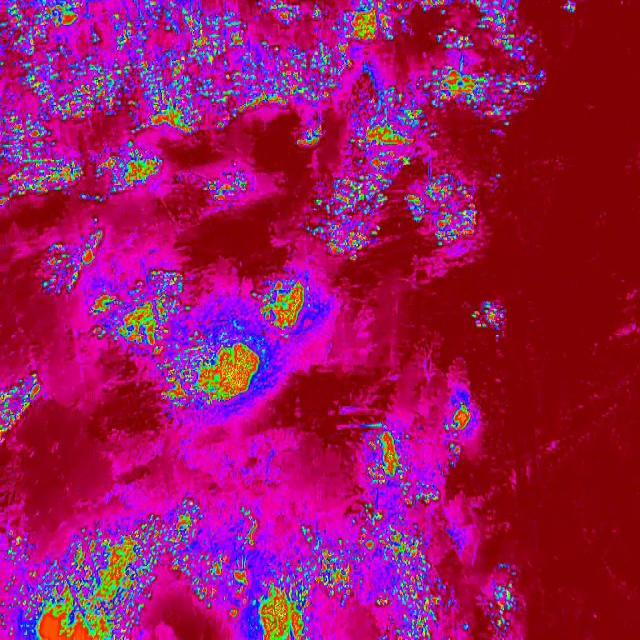fire: (0, 506, 449, 640), (94, 258, 336, 409), (0, 0, 166, 202), (326, 0, 545, 118), (166, 0, 327, 150), (316, 82, 433, 260), (361, 419, 442, 507), (402, 170, 488, 252), (42, 230, 106, 294), (440, 390, 484, 460), (486, 572, 524, 640), (0, 379, 41, 442), (471, 296, 508, 339)
